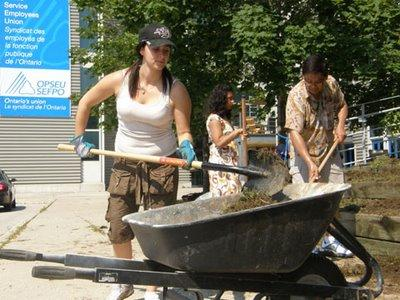person: (74, 25, 196, 300)
